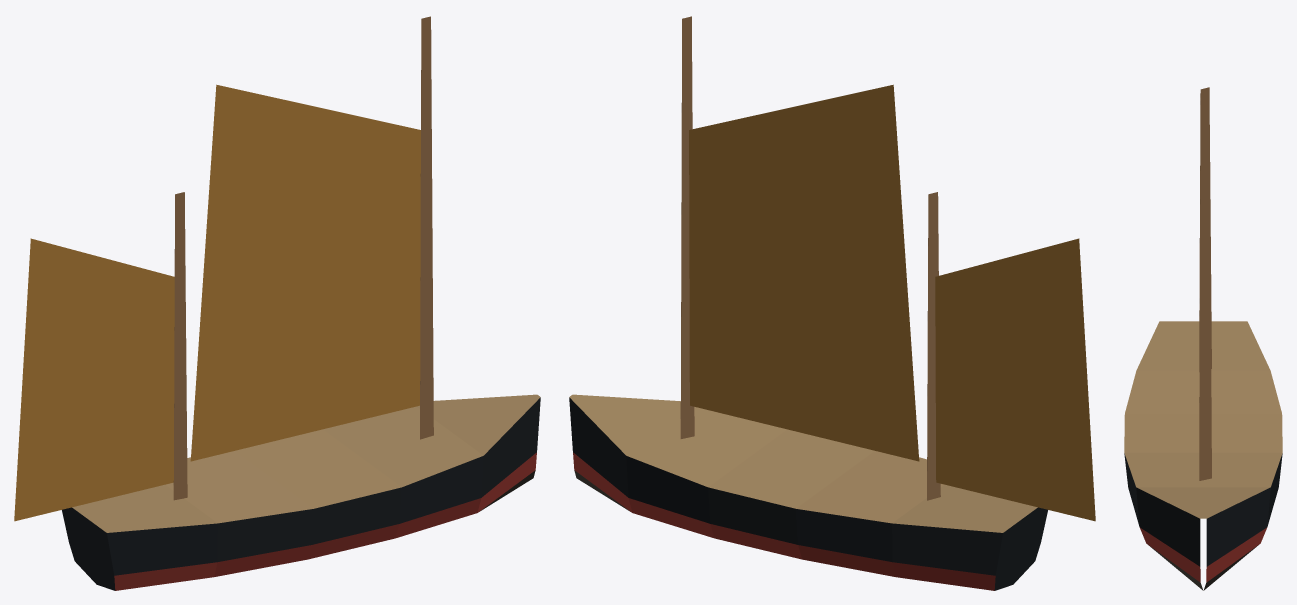
The model's file is hull_fiat_lugger_boat_lod.glb.
3 views of the same model, side by side, from view 1: azimuth 30°, elevation 25°; view 2: azimuth 150°, elevation 25°; view 3: azimuth 270°, elevation 25° (orthographic). The views are drawn at different scales.
Visible parts, largest first — view 1: lod; view 2: lod; view 3: lod.
Part boxes in pixels (x1,y1,x2,y2): lod: (14,16,540,590); lod: (569,16,1095,590); lod: (1124,87,1282,590).
Bounding box in the file's own units: 8.63 × 8.01 × 2.45.
